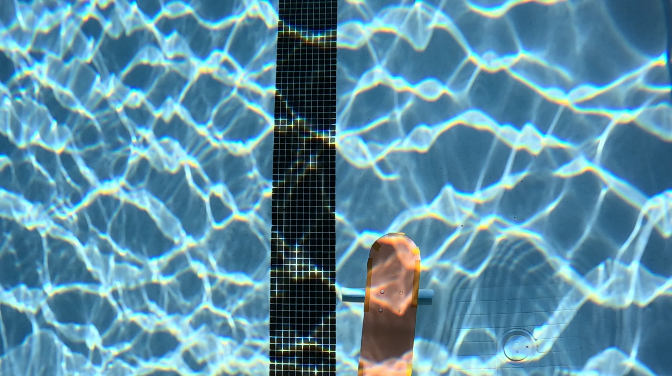pathmarker: (357, 233, 419, 374)
